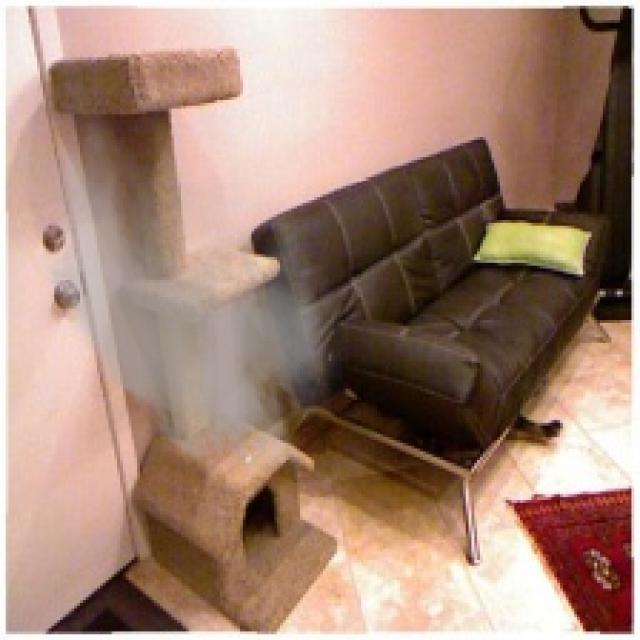Smoke: (8, 62, 360, 488)
